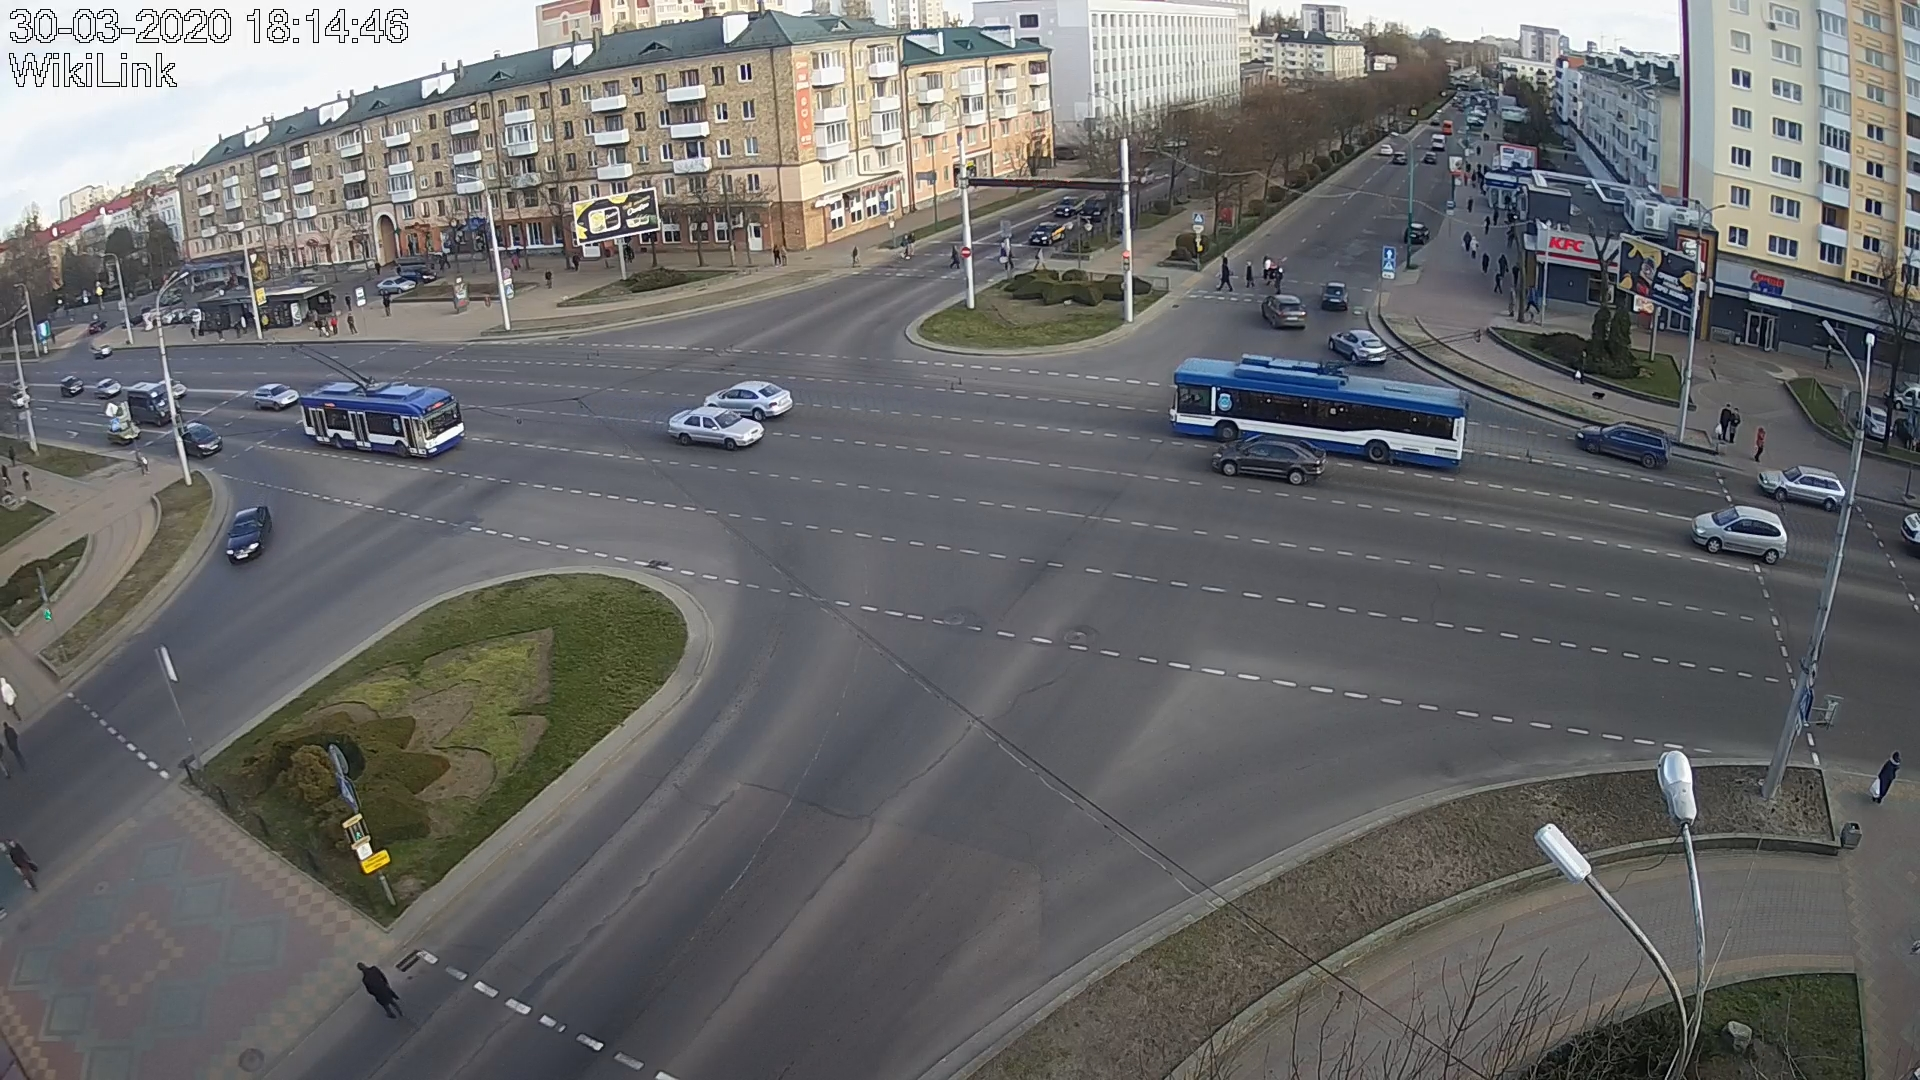bus: (1170, 356, 1469, 468), (299, 381, 465, 458)
car: (1211, 434, 1327, 487), (1691, 505, 1788, 566), (1575, 421, 1671, 469), (669, 406, 765, 451), (1756, 465, 1846, 512), (704, 380, 794, 421), (225, 505, 272, 563), (128, 381, 179, 425), (1329, 328, 1387, 364), (175, 423, 223, 460), (1261, 293, 1307, 328), (253, 382, 299, 411), (1029, 222, 1065, 244), (1323, 281, 1349, 309)
